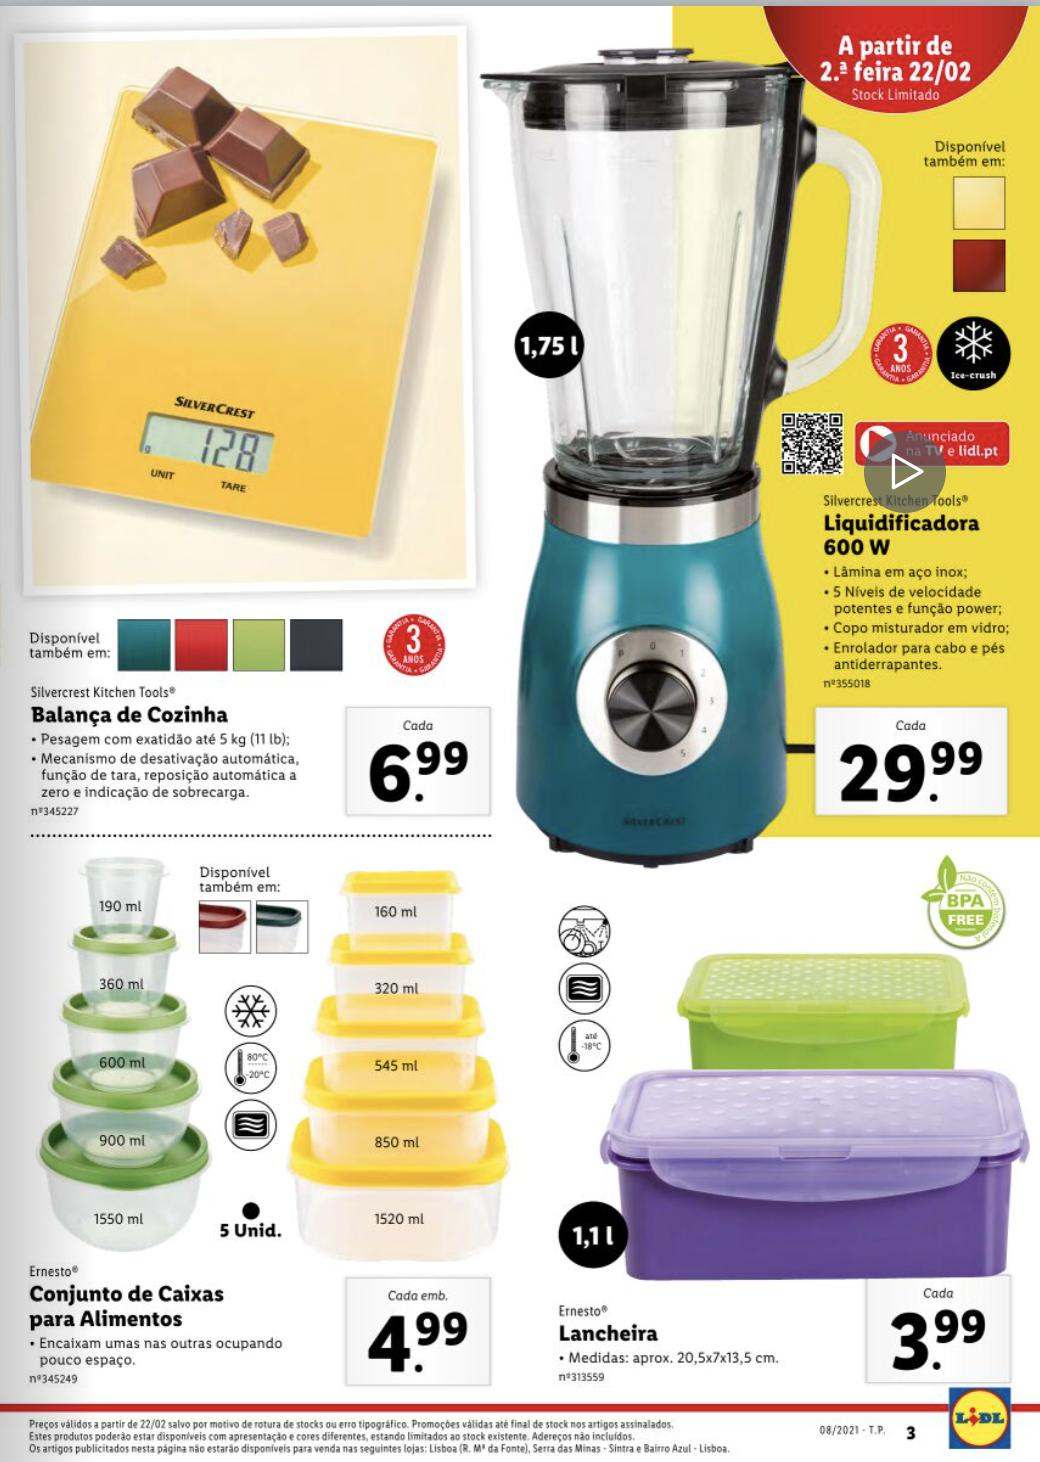name: (23, 1279, 228, 1331), (821, 508, 987, 557), (27, 703, 234, 728), (554, 1322, 663, 1349)
price: (834, 735, 983, 806), (361, 735, 476, 805), (889, 1306, 990, 1374), (367, 1312, 470, 1375)
product: (481, 48, 1025, 855), (21, 37, 500, 834), (14, 845, 527, 1397), (543, 870, 1025, 1394)
